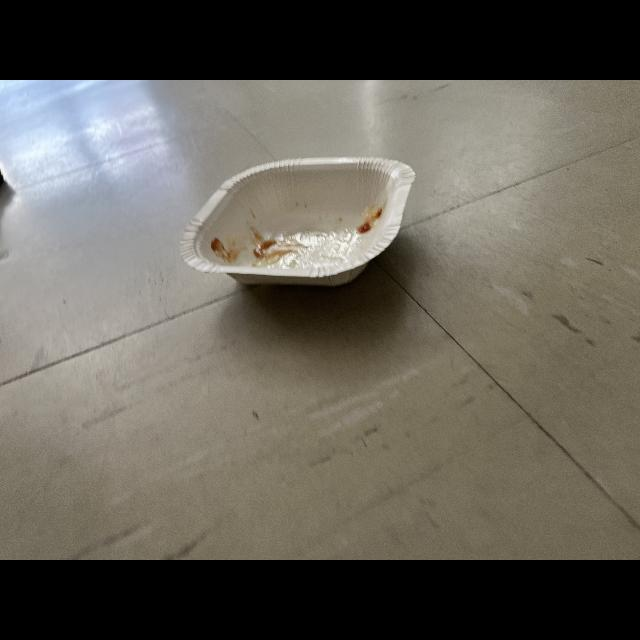cardboard_bowl: (168, 136, 424, 300)
